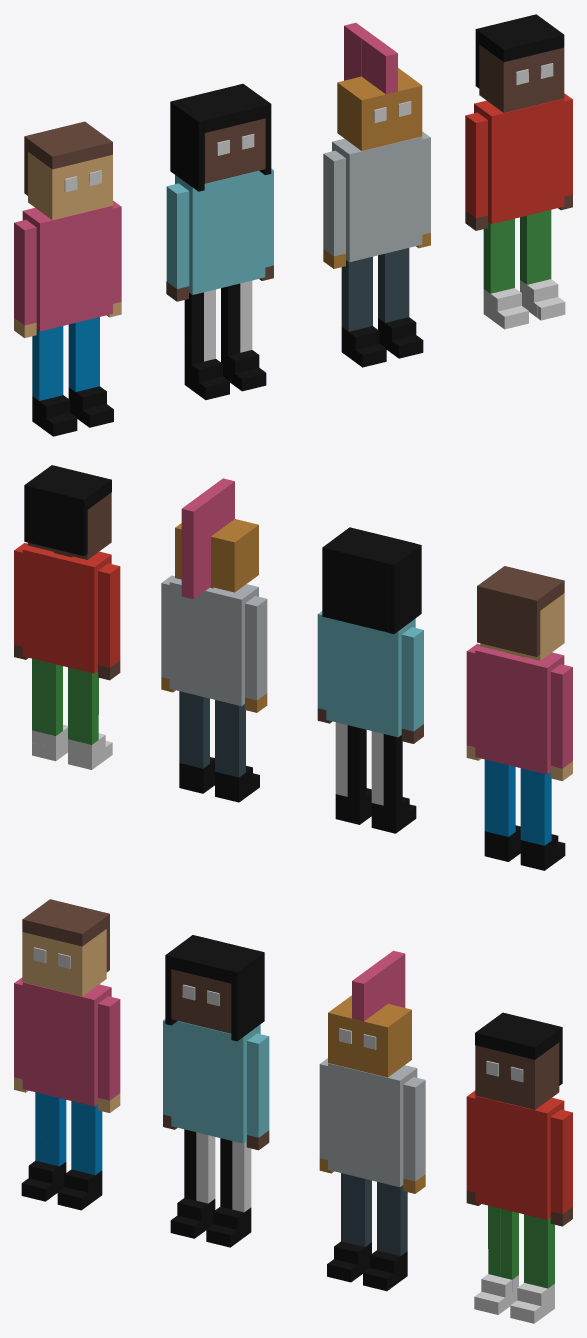
The picture shows the model from 3 angles, top to bottom: view 1: azimuth 30°, elevation 25°; view 2: azimuth 150°, elevation 25°; view 3: azimuth 330°, elevation 25°; orthographic projection.
Parts seen in each view (by area): view 1: node_MeshObject-810731584-PolyPaper18; view 2: node_MeshObject-810731584-PolyPaper18; view 3: node_MeshObject-810731584-PolyPaper18.
Boxes of the visible parts, x1,y1,x2,y2 form: node_MeshObject-810731584-PolyPaper18: (14,14,572,436); node_MeshObject-810731584-PolyPaper18: (14,465,572,870); node_MeshObject-810731584-PolyPaper18: (14,899,572,1323).
Bounding box in the file's own units: 0.9101 × 0.4801 × 0.1249.
